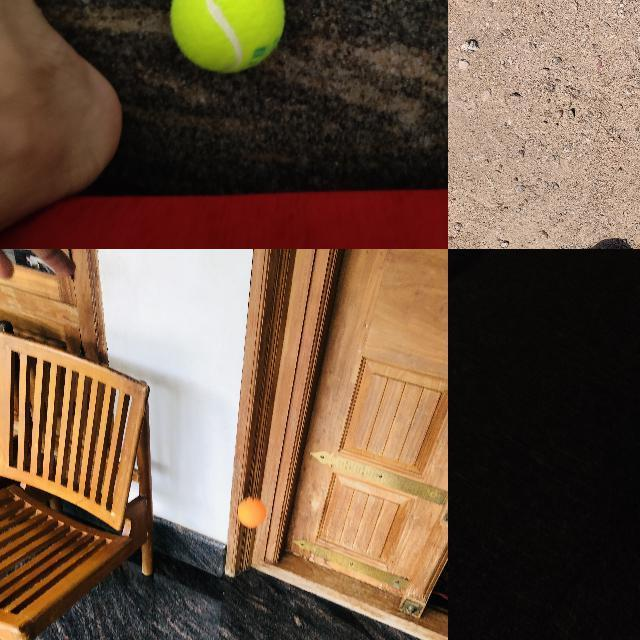tennis-ball: (169, 0, 287, 74)
